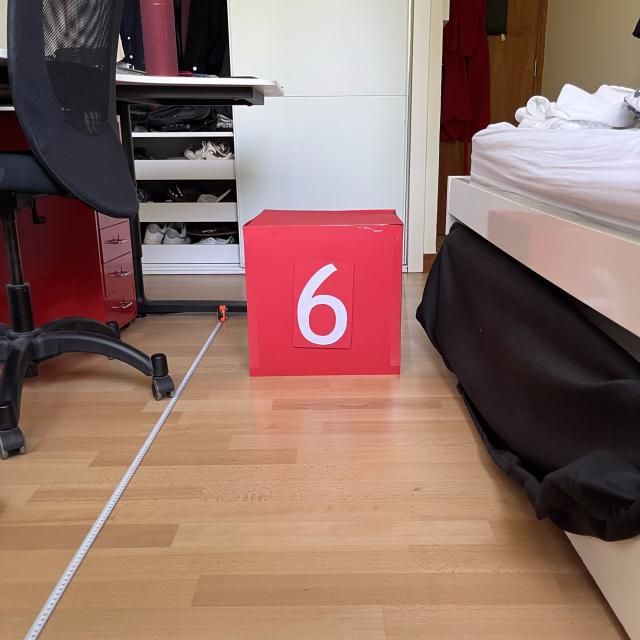box: (239, 204, 406, 378)
